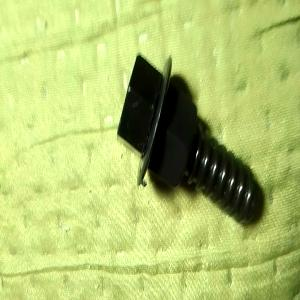parafuso: (116, 50, 266, 226)
